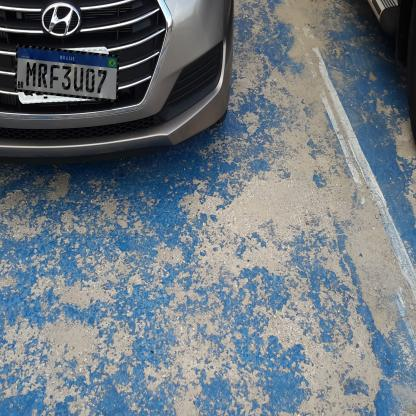PlacaM: (15, 44, 119, 102)
